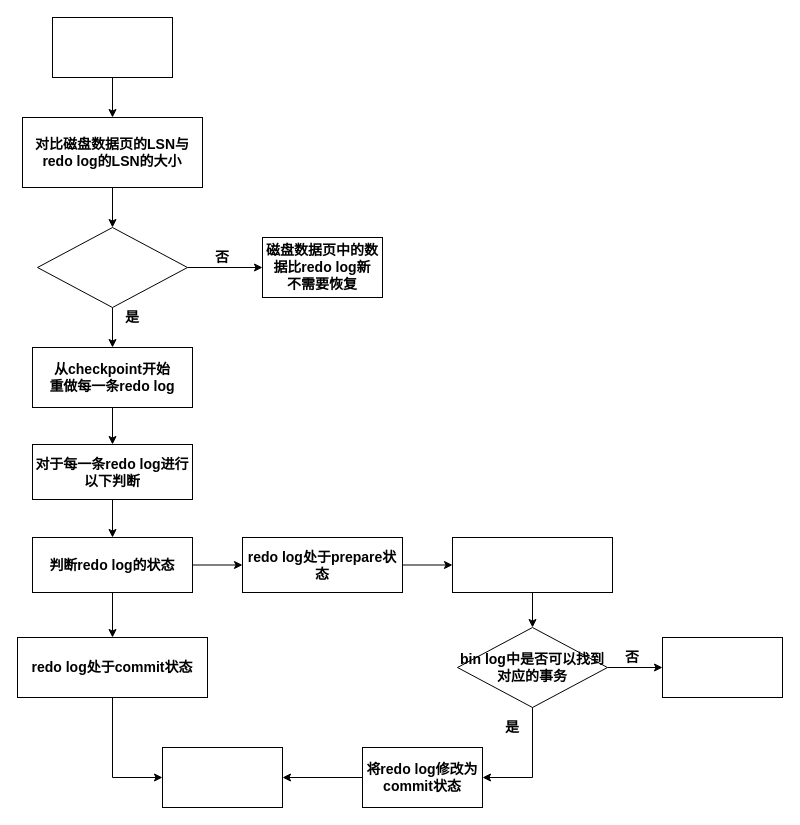
Image size: 800x825. Some labels were removed from this diagram. The shapes that lost their labels are listed below. From the top down, each one's centre as x and y in pixels, then its label:
At (112,47): "MySQL启动".
At (112,267): "磁盘数据页的LSN是否<redo log的LSN".
At (532,564): "获取该redo log的事务ID".
At (722,667): "根据事务ID找到undo log执行回滚".
At (222,777): "使用该redo log恢复数据".
